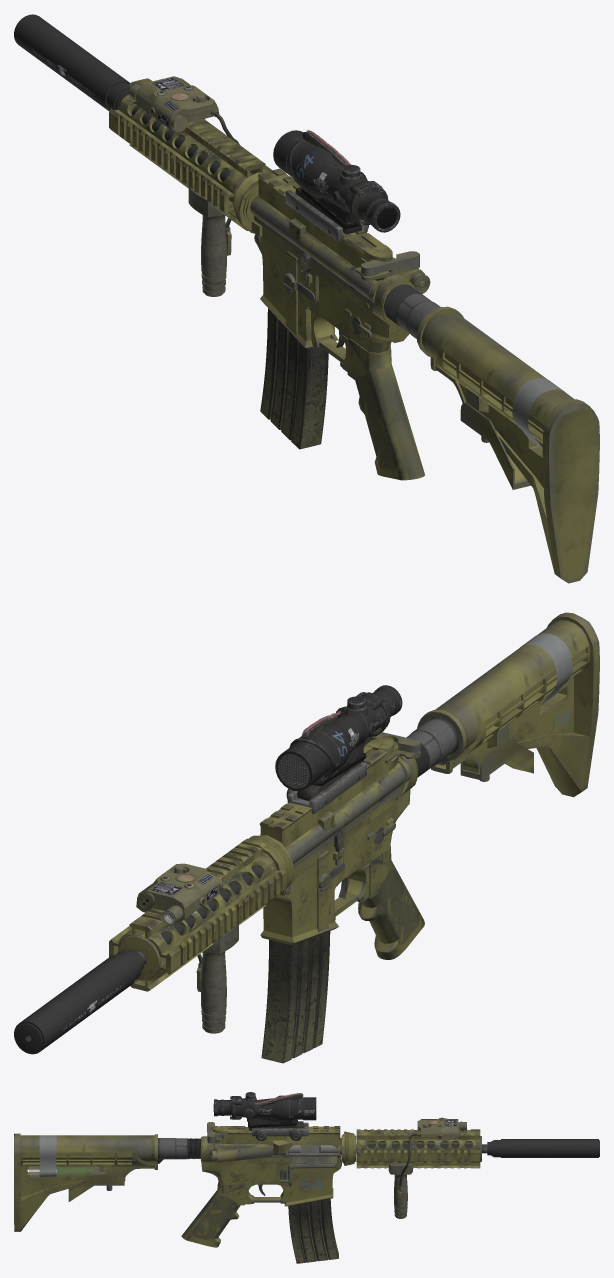
3 views of the same model, one above another, from view 1: azimuth 30°, elevation 25°; view 2: azimuth 150°, elevation 25°; view 3: azimuth 270°, elevation 25° (orthographic). The views are drawn at different scales.
Visible parts, largest first — view 1: ar15, rail, acog, Magazine, suppressor, laser, Front Grip, tape, kill flash; view 2: ar15, rail, Magazine, acog, suppressor, laser, Front Grip, kill flash, tape; view 3: ar15, rail, acog, Magazine, suppressor, laser, Front Grip, tape, kill flash, glow stick, dust cover, bolt carrier (+1 smaller).
Boxes of the visible parts, x1,y1,x2,y2 form: ar15: (129,104,599,583); rail: (109,78,272,230); acog: (285,130,400,241); Magazine: (260,308,328,449); suppressor: (14,14,130,110); laser: (129,76,218,133); Front Grip: (188,187,226,296); tape: (512,378,564,448); kill flash: (273,130,360,228); ar15: (118,612,599,980); rail: (109,838,286,991); Magazine: (261,931,330,1063); acog: (286,685,402,813); suppressor: (14,950,144,1054); laser: (136,863,223,924); Front Grip: (201,924,238,1033); kill flash: (275,742,366,791); tape: (520,633,572,705); ar15: (14,1122,487,1247); rail: (356,1129,480,1168); acog: (213,1092,308,1140); Magazine: (288,1199,338,1263); suppressor: (487,1139,599,1157); laser: (417,1117,466,1139); Front Grip: (388,1163,412,1218); tape: (39,1135,56,1177); kill flash: (248,1097,316,1127); glow stick: (28,1165,106,1178); dust cover: (289,1153,336,1165); bolt carrier: (289,1145,336,1152).
Bounding box in the file's own units: 0.1972 × 0.8087 × 2.55.
10 materials, 10 textured.
